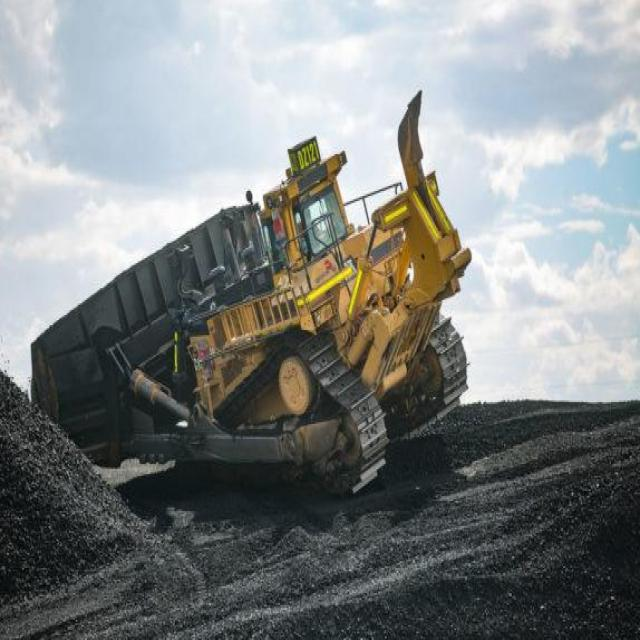Bulldozer: (31, 82, 484, 508)
